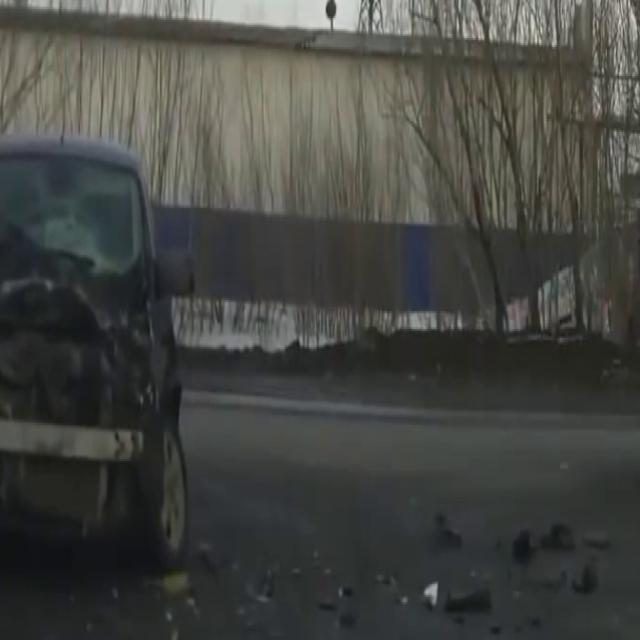accident: (4, 131, 229, 592)
